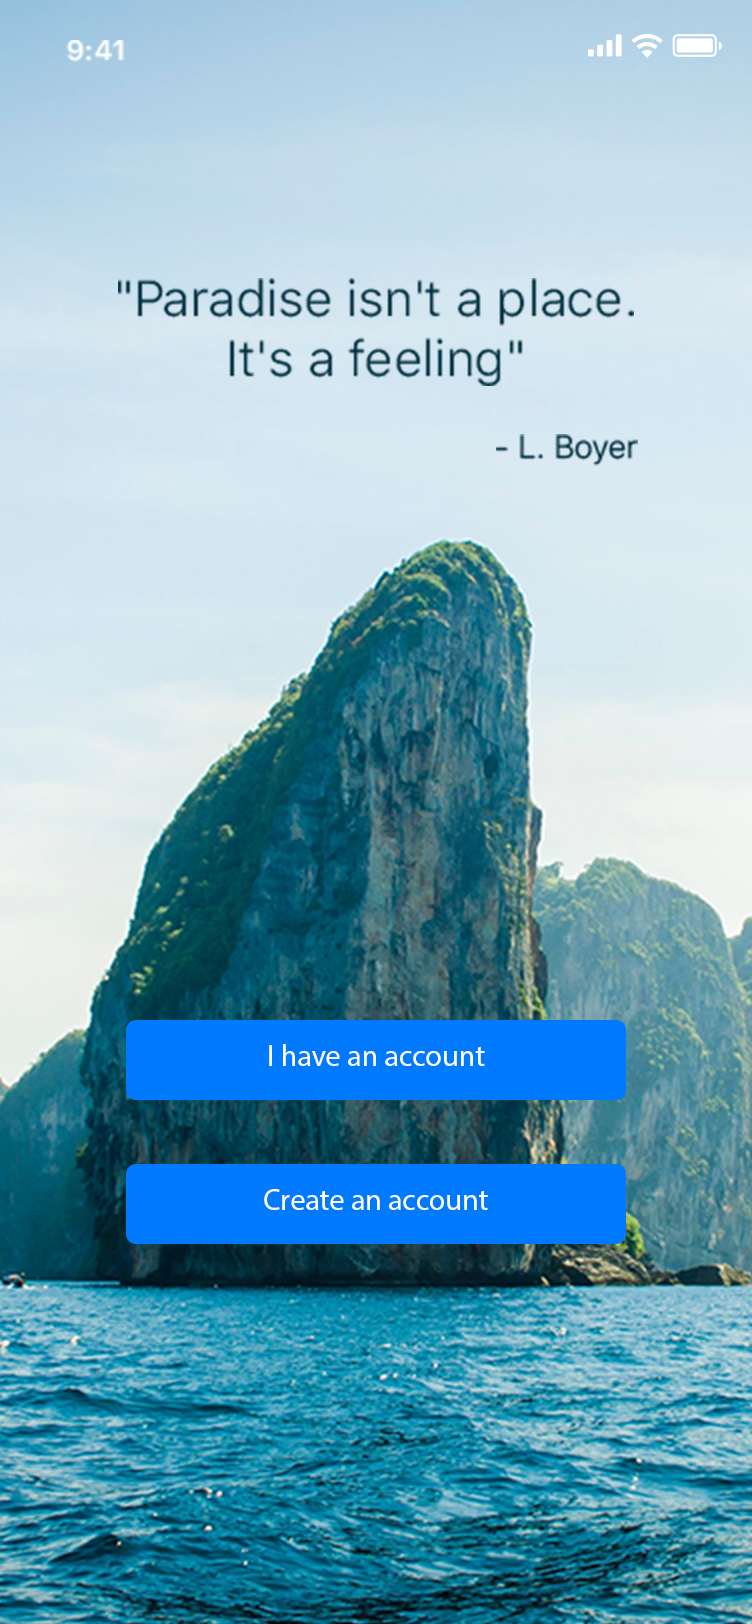BackgroundImage: (1, 1, 752, 1624)
Text: (117, 277, 636, 389), (495, 433, 639, 467)
TextButton: (126, 1020, 626, 1101), (126, 1164, 626, 1245)
UpperTaskBar: (67, 33, 723, 64)
